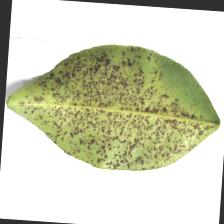canker: (47, 54, 219, 164)
